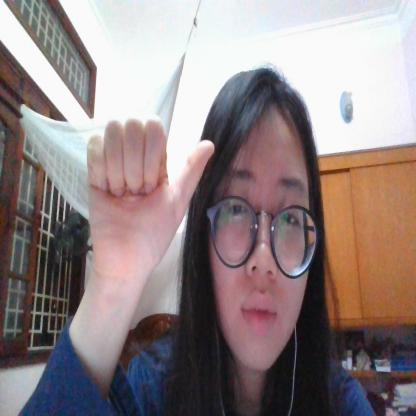left: (83, 116, 216, 282)
